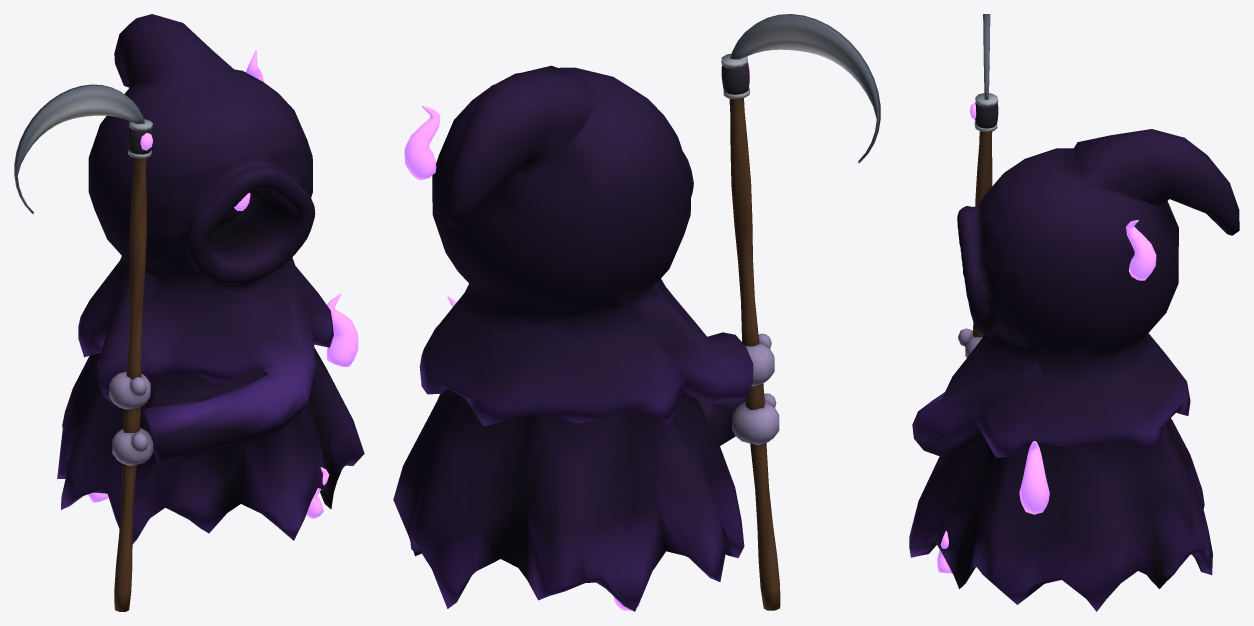
File: reaper.fbx
The picture shows the model from 3 angles, left to right: view 1: azimuth 30°, elevation 25°; view 2: azimuth 150°, elevation 25°; view 3: azimuth 270°, elevation 25°; orthographic projection. The views are drawn at different scales.
Visible parts, largest first — view 1: Reaper_Body, Reaper_GLOW; view 2: Reaper_Body, Reaper_GLOW; view 3: Reaper_Body, Reaper_GLOW.
Boxes of the visible parts, left/top/right/bottom form: Reaper_Body: left=14, top=14, right=364, bottom=611; Reaper_GLOW: left=88, top=50, right=358, bottom=518; Reaper_Body: left=393, top=14, right=880, bottom=611; Reaper_GLOW: left=404, top=63, right=749, bottom=610; Reaper_Body: left=909, top=14, right=1239, bottom=611; Reaper_GLOW: left=937, top=102, right=1156, bottom=573.
Size of the model in its own units: 2.57 by 3.53 by 2.07.
2 materials, 1 textured.
